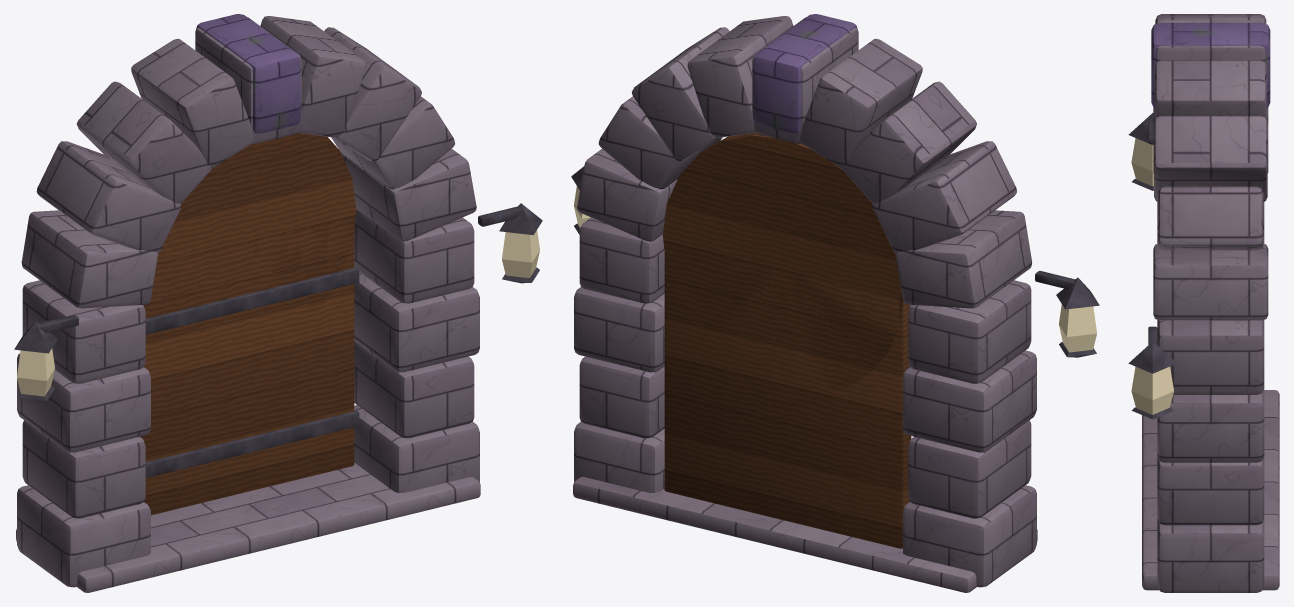
Rendered from GIN_UG_StoneArch.fbx.
3 views of the same model, side by side, from view 1: azimuth 30°, elevation 25°; view 2: azimuth 150°, elevation 25°; view 3: azimuth 270°, elevation 25° (orthographic). The views are drawn at different scales.
Visible parts, largest first — view 1: GIN_UG_StoneArch; view 2: GIN_UG_StoneArch; view 3: GIN_UG_StoneArch.
Part boxes in pixels (x1,y1,x2,y2): GIN_UG_StoneArch: [14, 14, 542, 592]; GIN_UG_StoneArch: [571, 14, 1099, 592]; GIN_UG_StoneArch: [1128, 14, 1279, 592].
Bounding box in the file's own units: 3.86 × 3.37 × 0.99.
